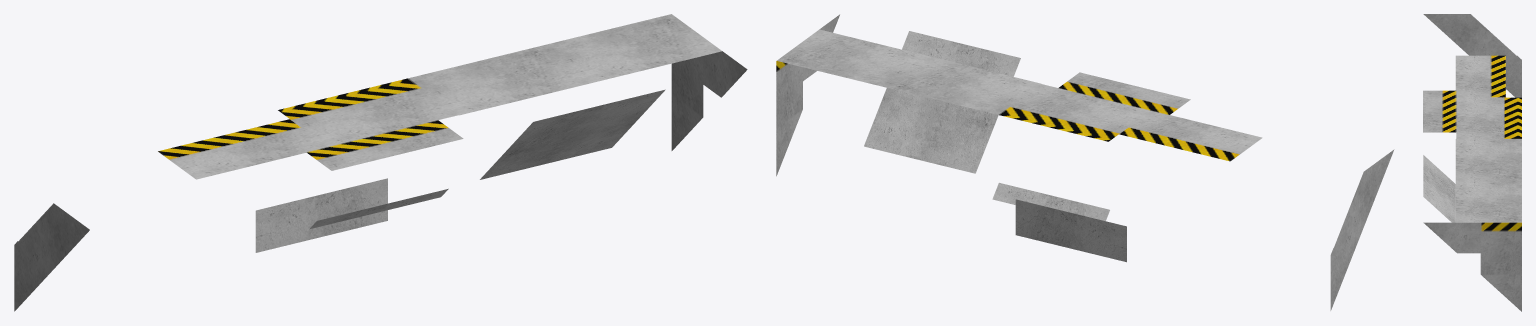
The model's file is Lamp.fbx.
3 renders of one model, left to right at view 1: azimuth 30°, elevation 25°; view 2: azimuth 150°, elevation 25°; view 3: azimuth 270°, elevation 25°, orthographic. The views are drawn at different scales.
Visible parts, largest first — view 1: Cube; view 2: Cube; view 3: Cube.
Part boxes in pixels (bbox=[...]): Cube: bbox=[14, 14, 747, 311]; Cube: bbox=[776, 14, 1394, 310]; Cube: bbox=[1423, 14, 1521, 311].
Bounding box in the file's own units: 50 × 10 × 10.
